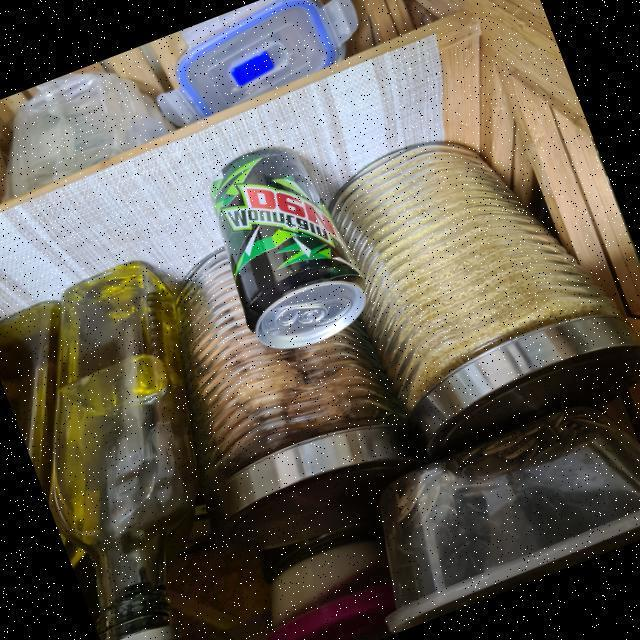can: (185, 129, 382, 365)
